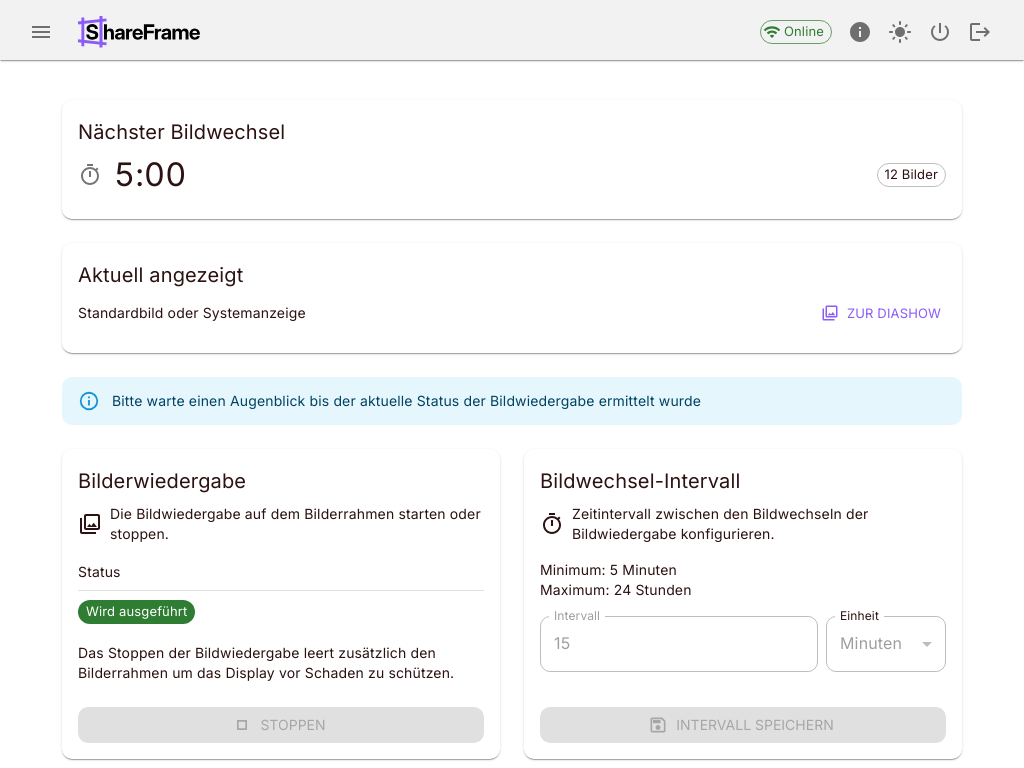
Test case: notifications › has nothing to report on a healthy, current board
Click the button named "Benachrichtigungen" at x=860, y=32, box [840,12,880,52]
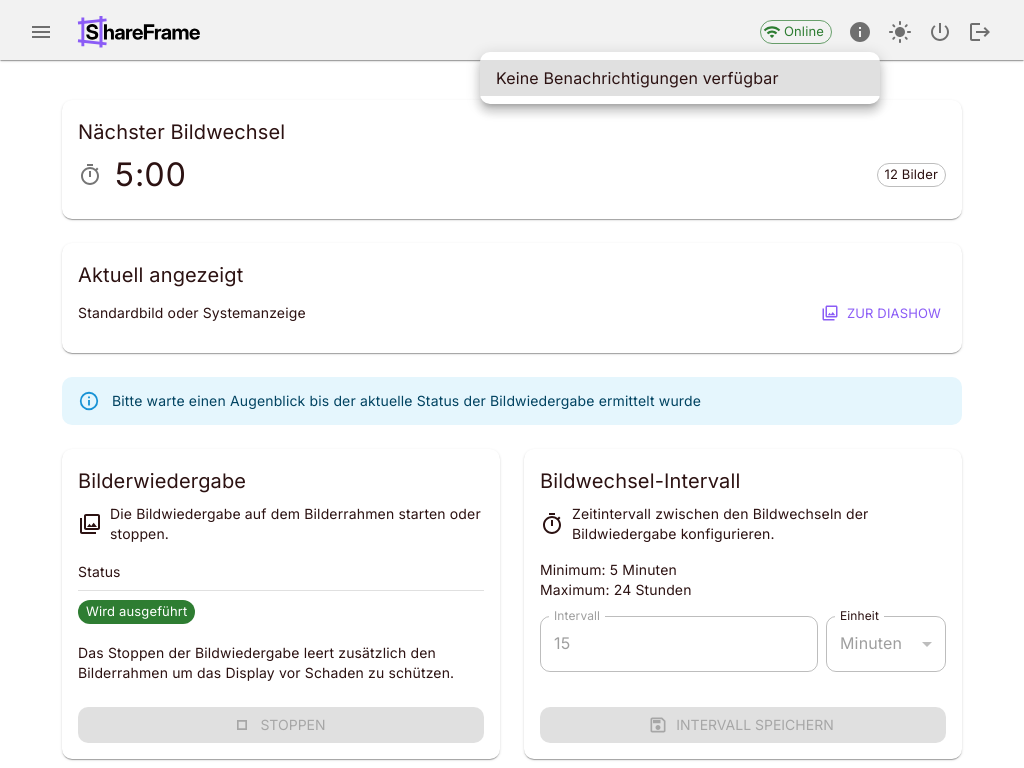
expect the text "Keine Benachrichtigungen verfügbar" is shown: met, box [496,66,779,90]
